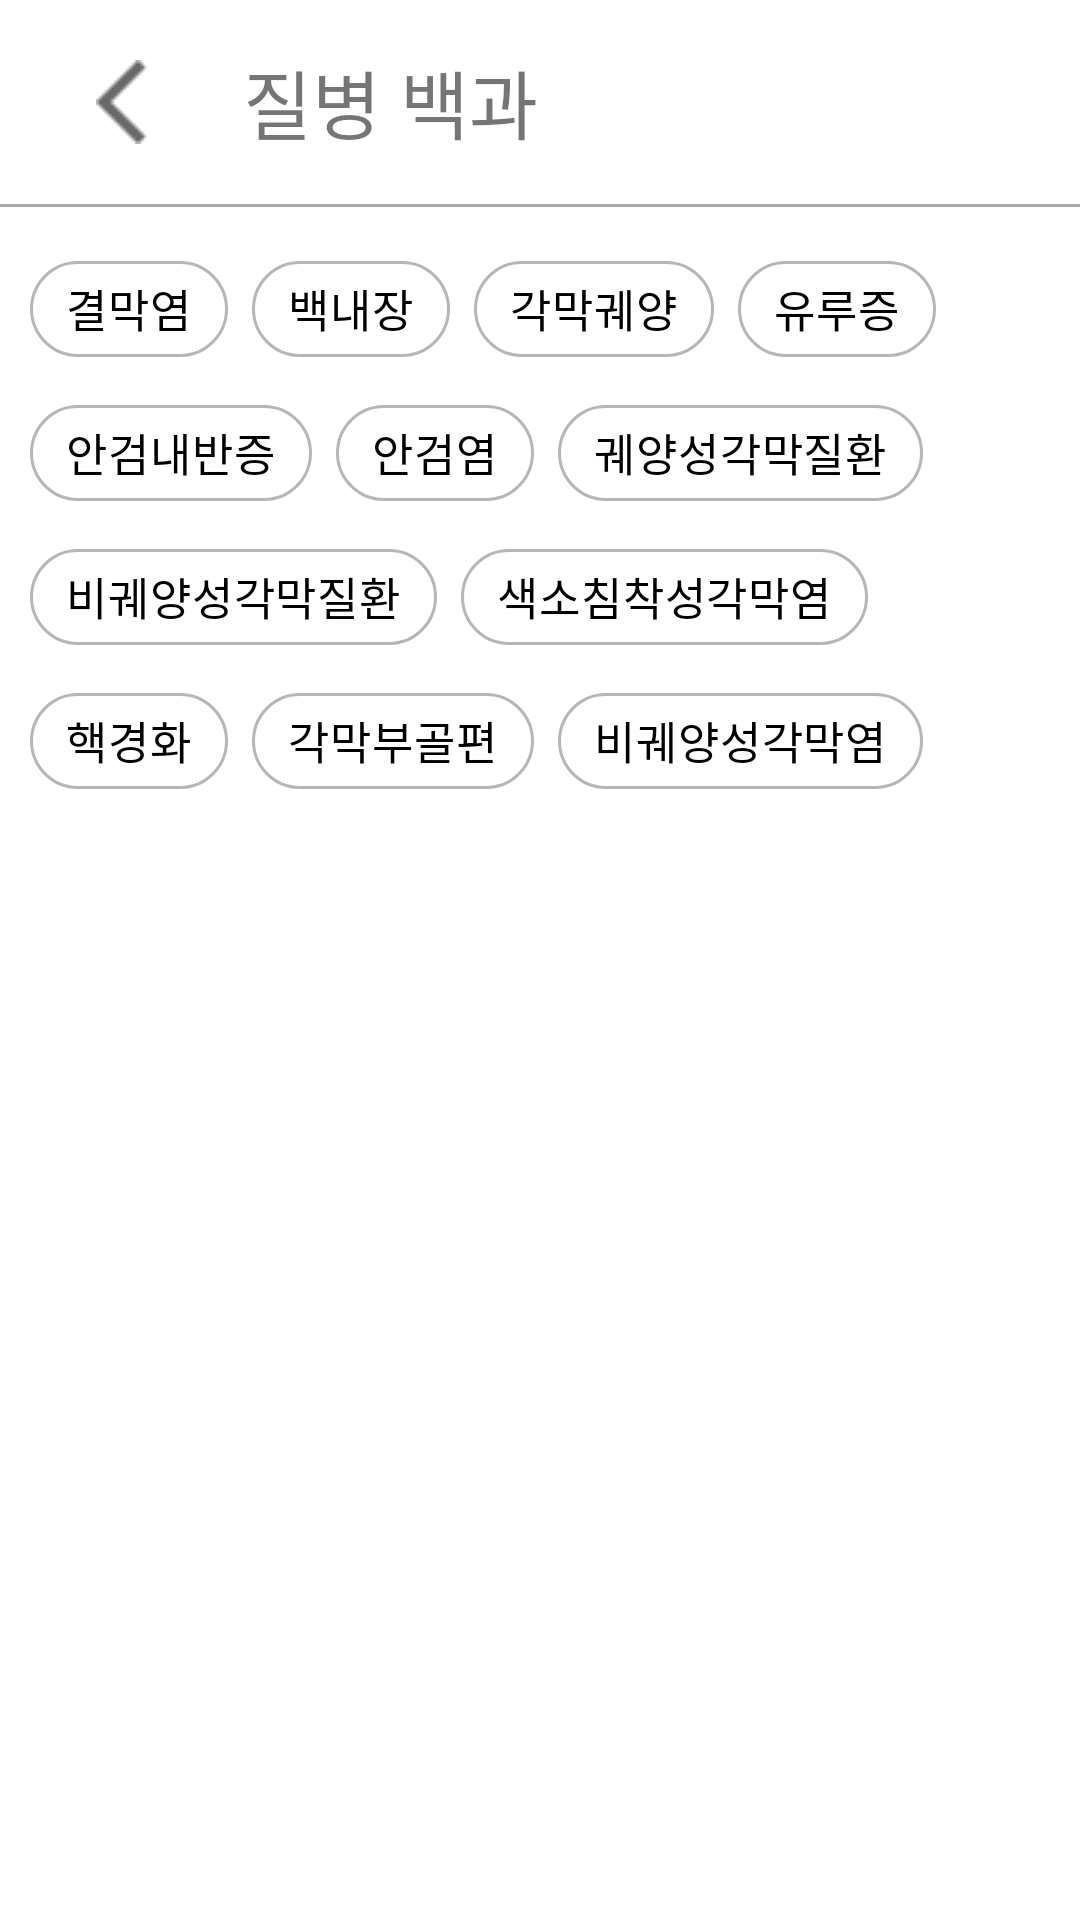

Icons on this 1080×1920 Android screen, each with its box as (left=x1, top=y1, right=x2, bottom=y2):
back: (left=96, top=60, right=147, bottom=144)
